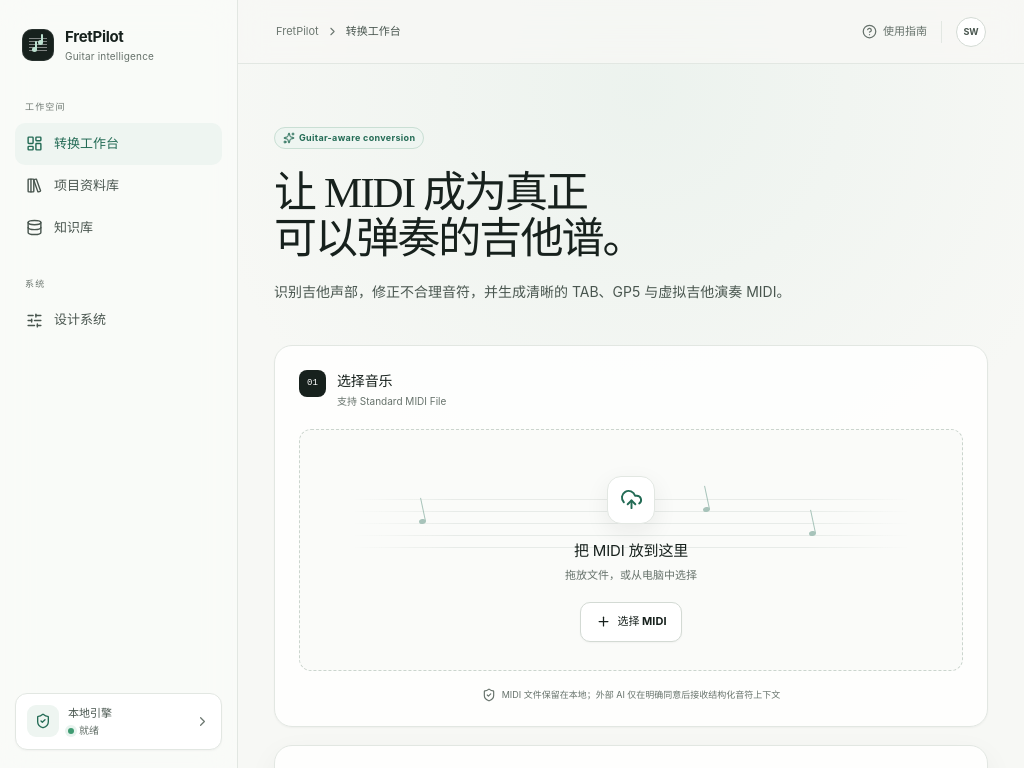
FretPilot studio › exposes the design system from primary navigation
The width and height of the screenshot is (1024, 768).
Click the button "设计系统" at point(118, 320), box x1=15 y1=299 x2=222 y2=341
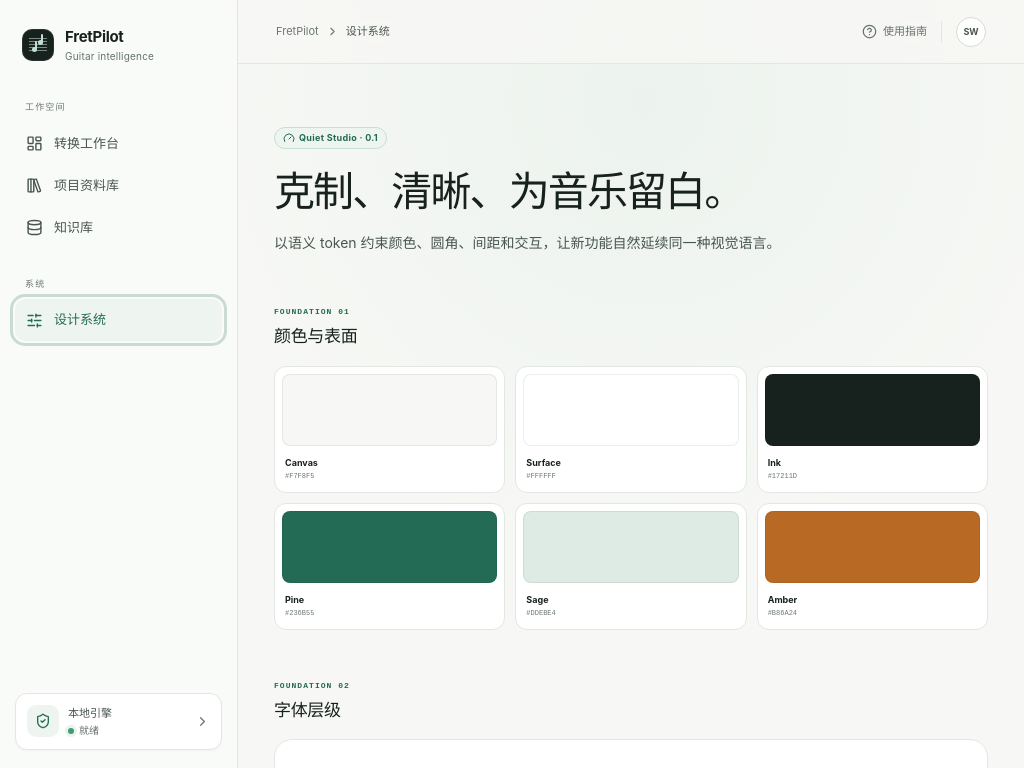
Expected: the heading "克制、清晰、为音乐留白。" is shown, x1=274 y1=169 x2=743 y2=215
Expected: the text "Quiet Studio · 0.1" is shown, x1=274 y1=127 x2=387 y2=149
